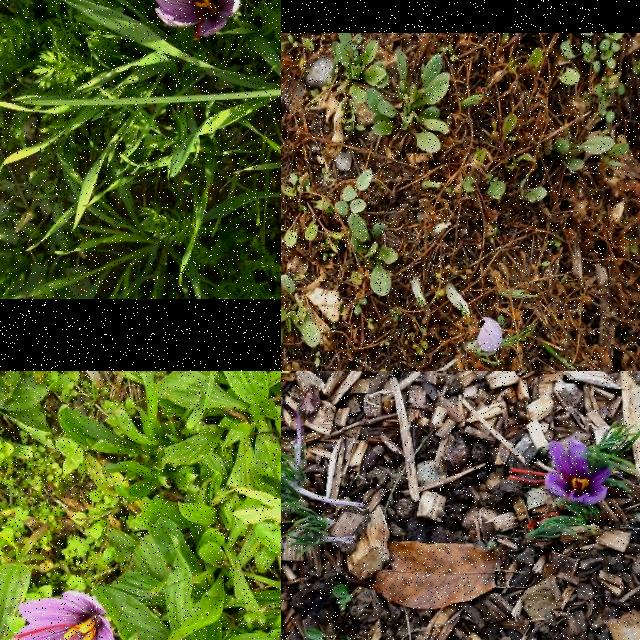flower: (509, 438, 613, 506), (1, 590, 116, 640), (150, 0, 242, 40), (478, 317, 504, 353)
